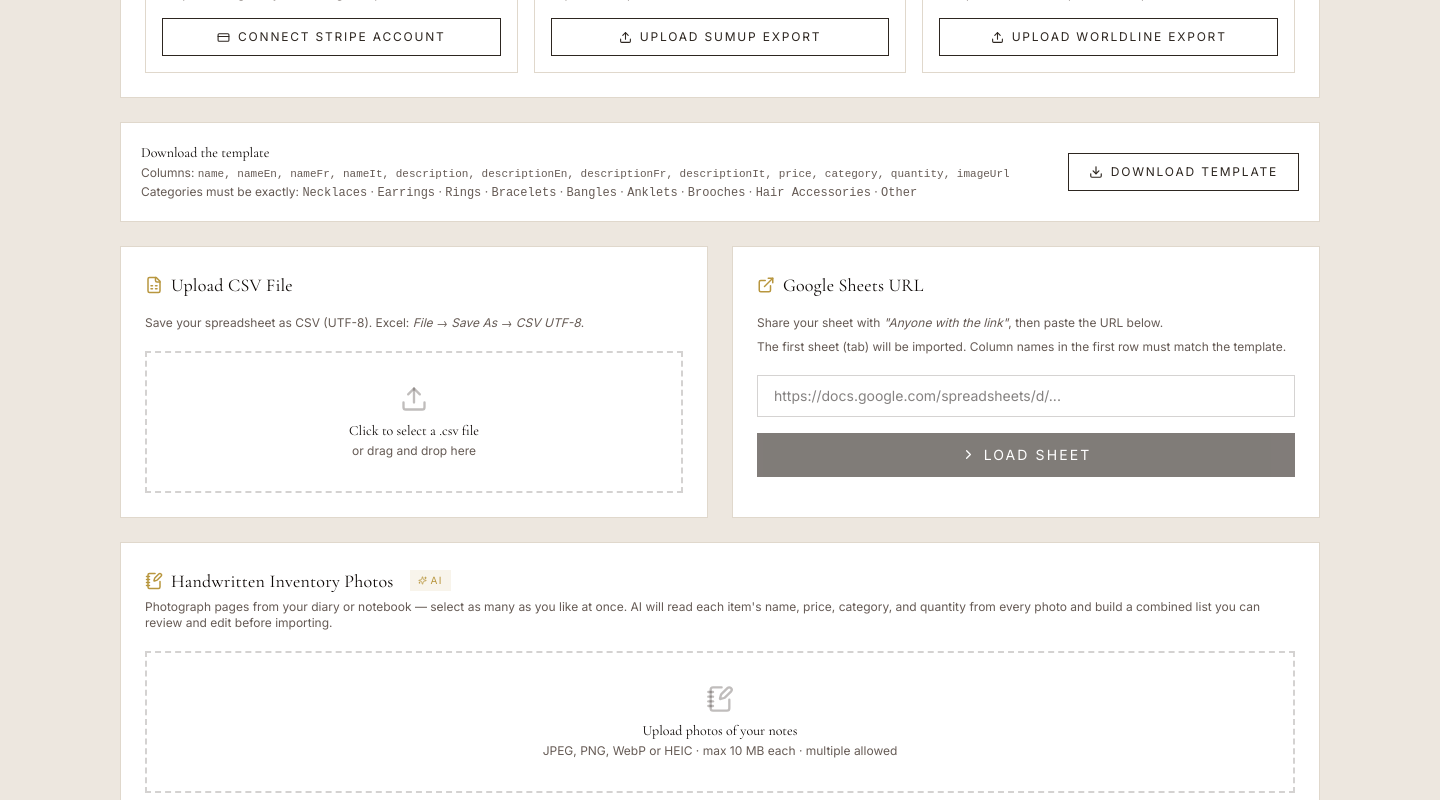
Test: CsvImport: input-stage validation and template download › loads rows fetched from a Google Sheet URL
(page scrolled)
Type "https://docs.google.com/spreadsheets/d/abc" into the field with placeholder "https://docs.google.com/spreadsheets/d/..." at (1026, 396), box 757,375 -> 1295,417
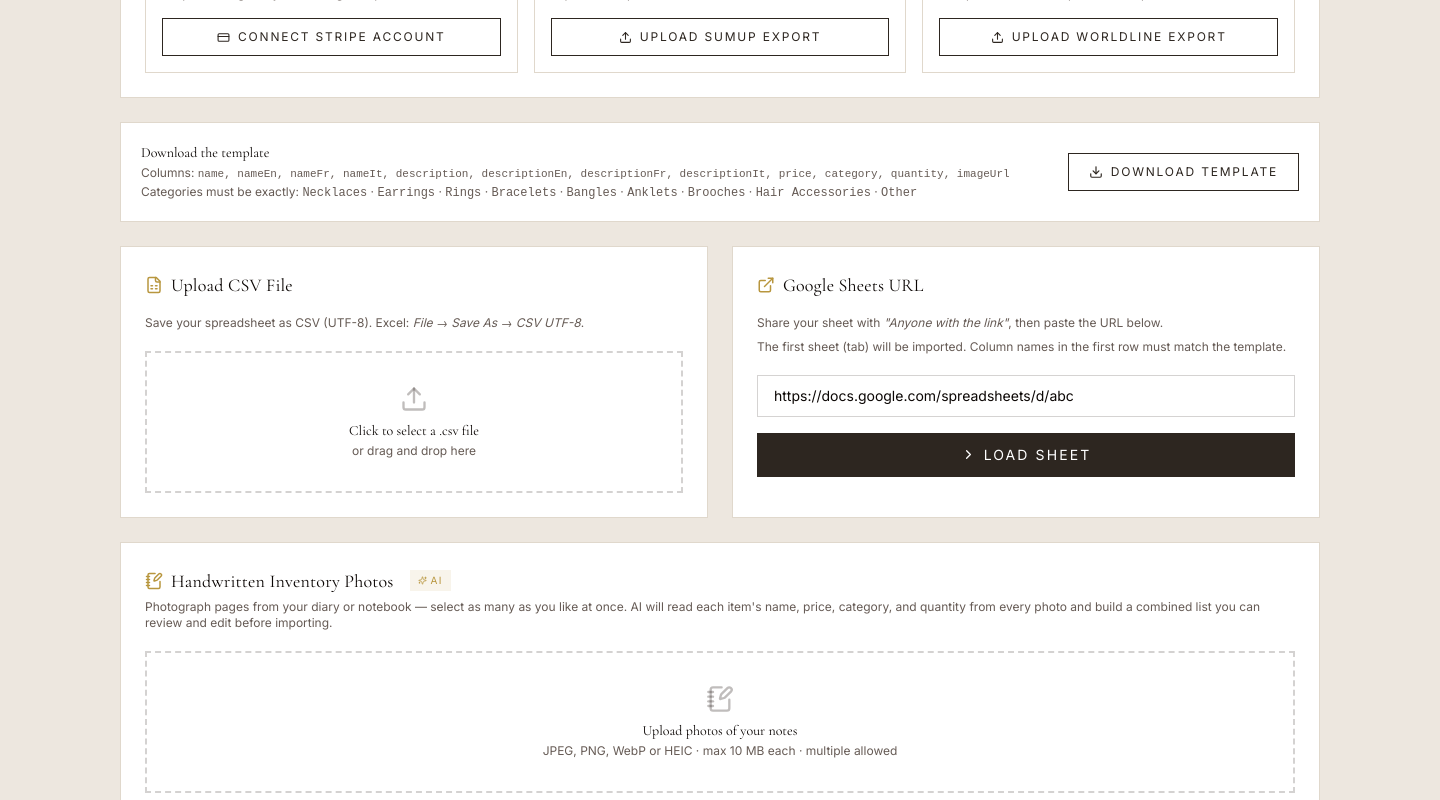
Click the button "Load Sheet" at (1026, 455), box 757,433 -> 1295,477
(page scrolled)
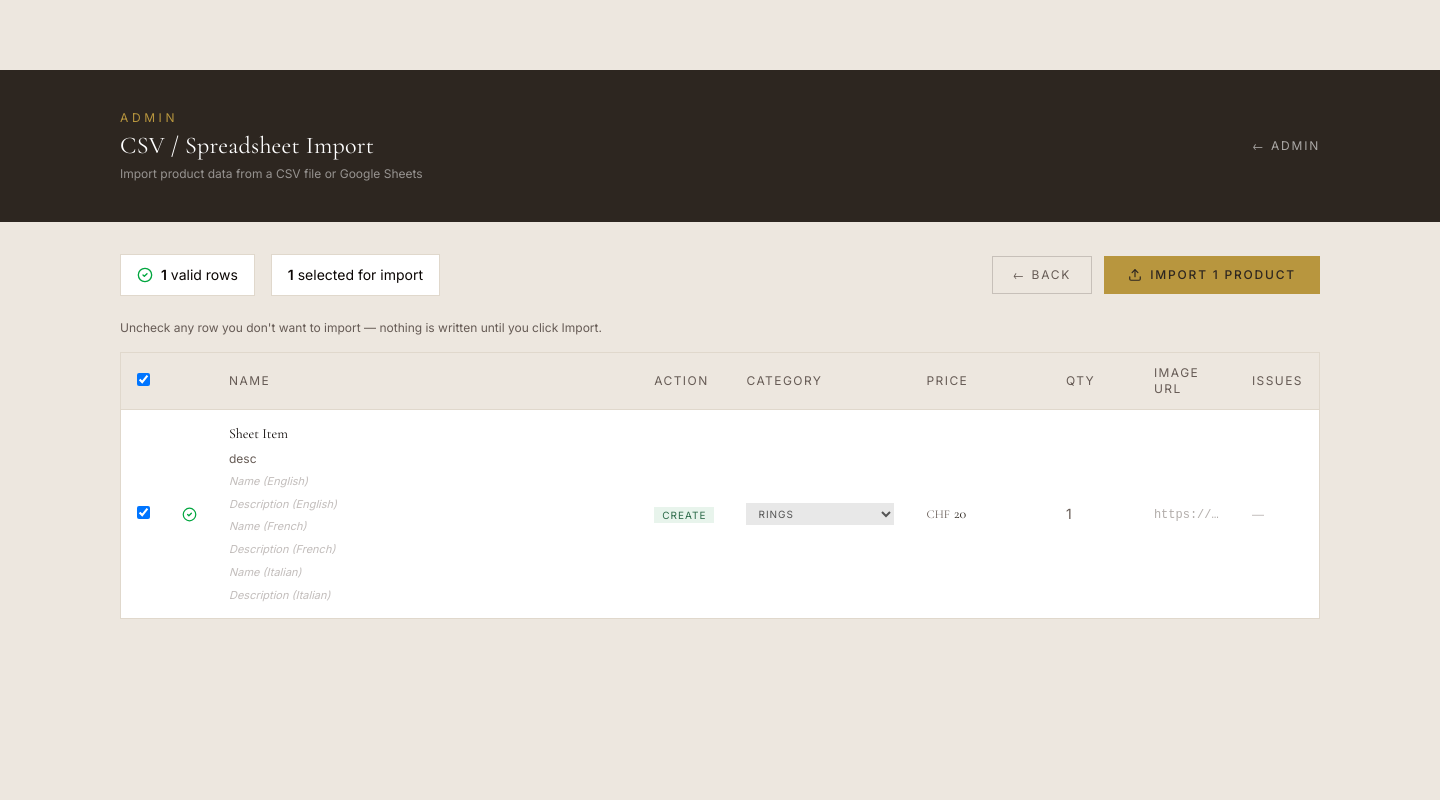
Expected: the text "1 valid rows" is shown, 161,265 -> 238,285
